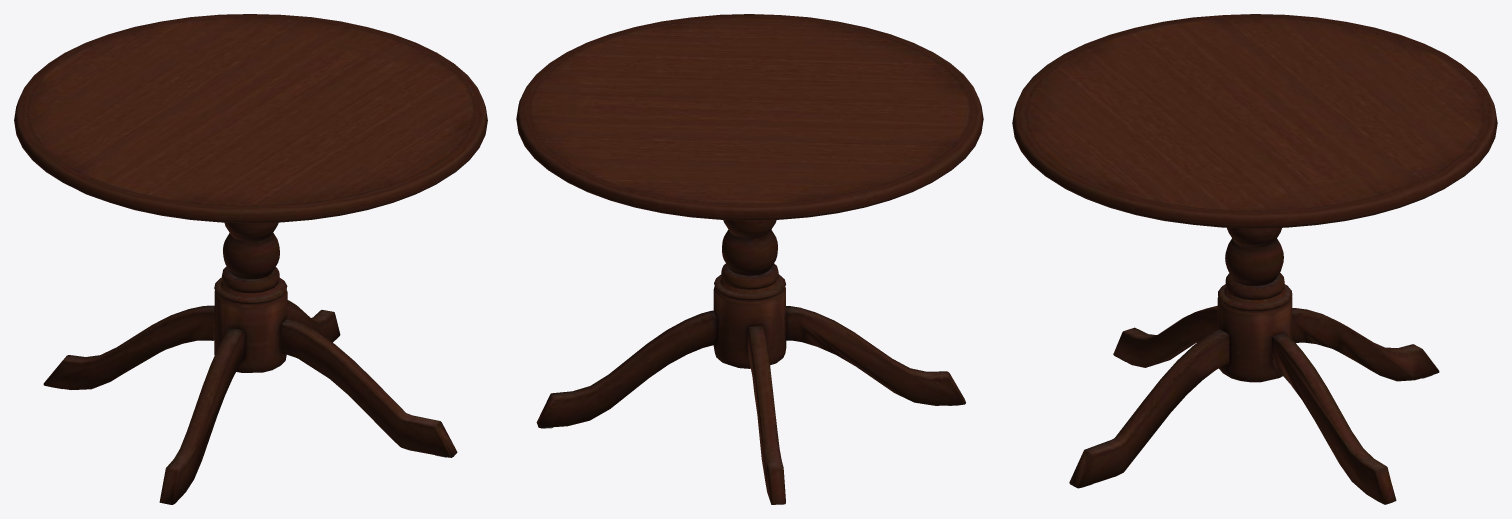
The model's file is round_wooden_table_01.glb.
The picture shows the model from 3 angles, left to right: view 1: azimuth 30°, elevation 25°; view 2: azimuth 150°, elevation 25°; view 3: azimuth 270°, elevation 25°; orthographic projection. The views are drawn at different scales.
Visible parts, largest first — view 1: round_wooden_table_01; view 2: round_wooden_table_01; view 3: round_wooden_table_01.
Part boxes in pixels (x1,y1,x2,y2): round_wooden_table_01: (14, 14, 487, 504); round_wooden_table_01: (516, 14, 983, 504); round_wooden_table_01: (1012, 14, 1497, 504).
Bounding box in the file's own units: 1.4 × 1 × 1.4.
Materials: 1 (1 with a texture image).
